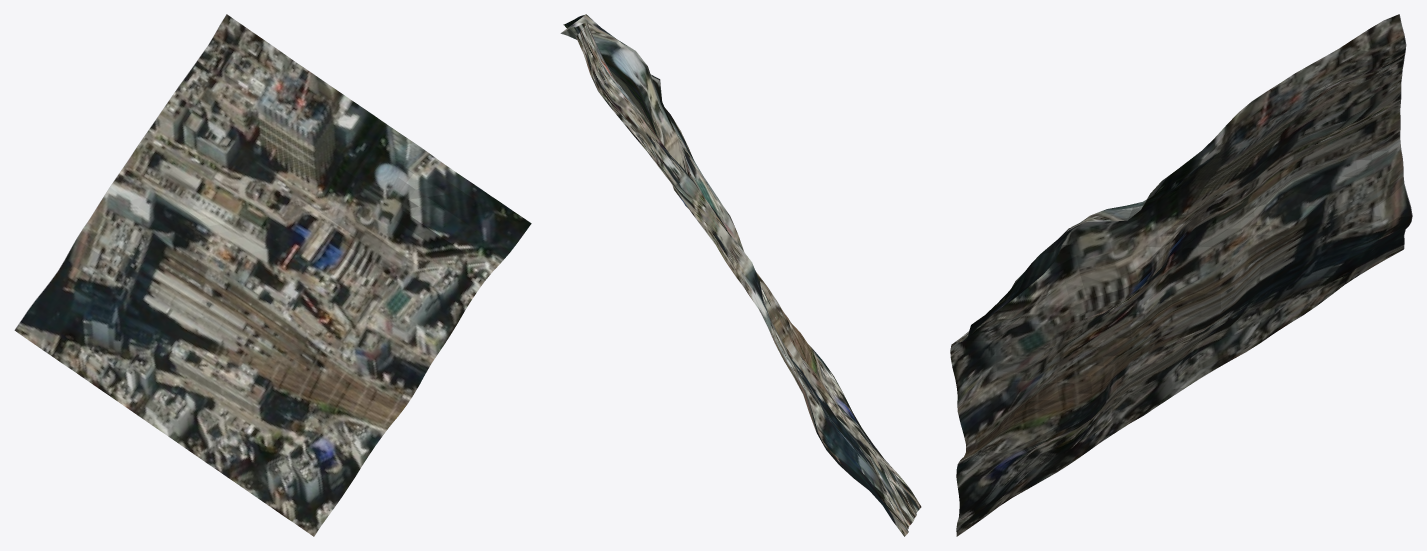
The picture shows the model from 3 angles, left to right: view 1: azimuth 30°, elevation 25°; view 2: azimuth 150°, elevation 25°; view 3: azimuth 270°, elevation 25°; orthographic projection. The views are drawn at different scales.
Bounding box in the file's own units: 553 × 568 × 418.
Materials: 1 (1 with a texture image).
